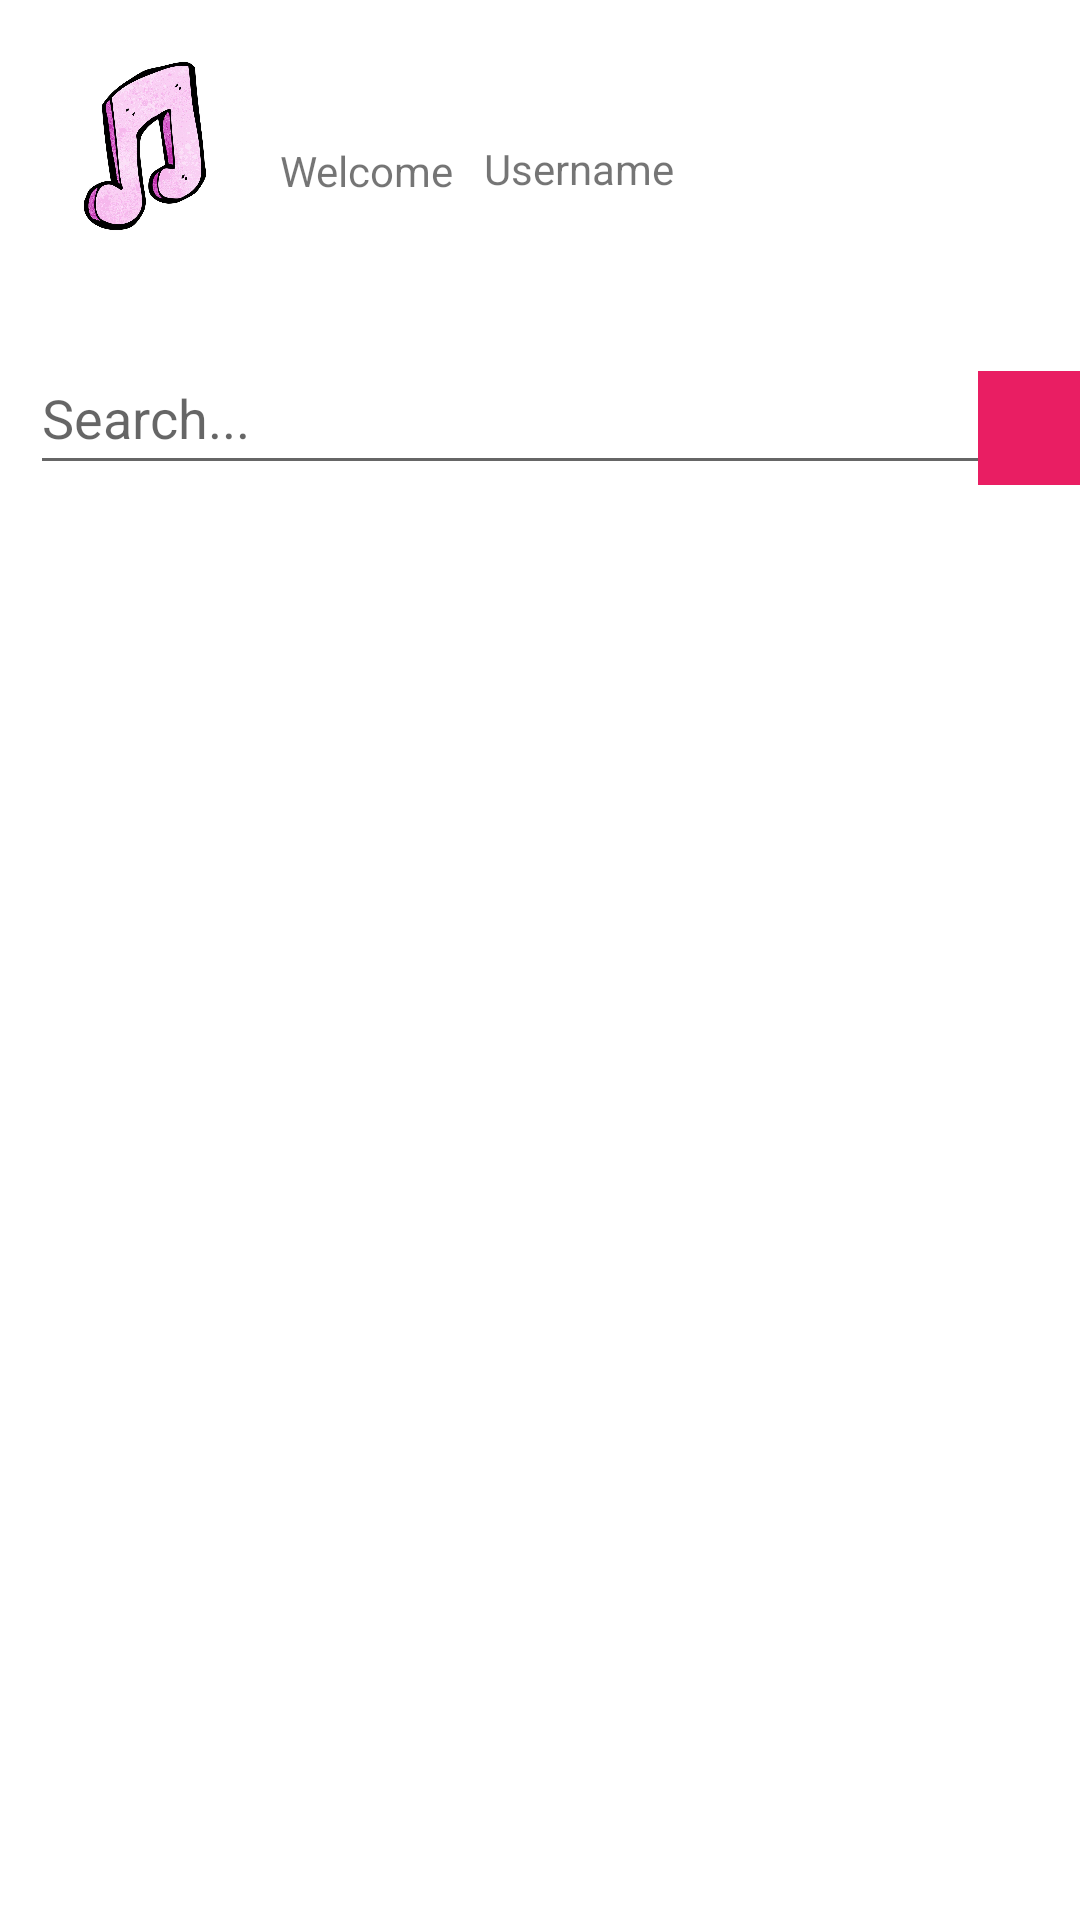

Point at icon controls on the screen. Image size 1080×1920, points as [x,y].
music: [145,146]
